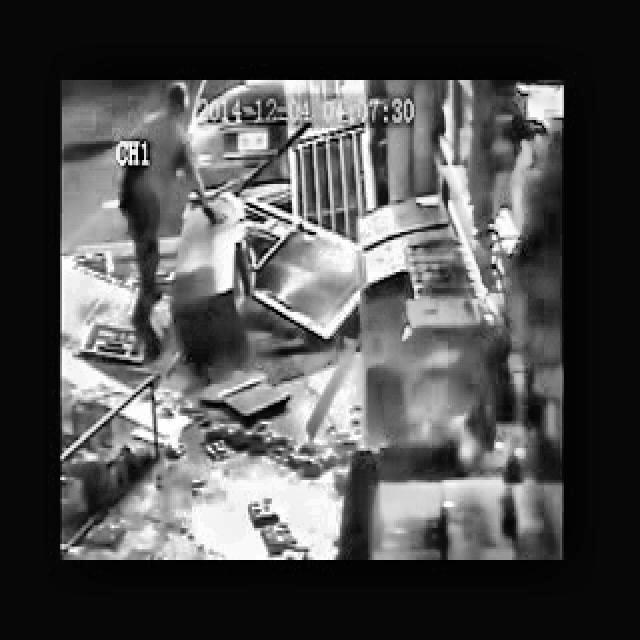burglary: (112, 86, 262, 374)
